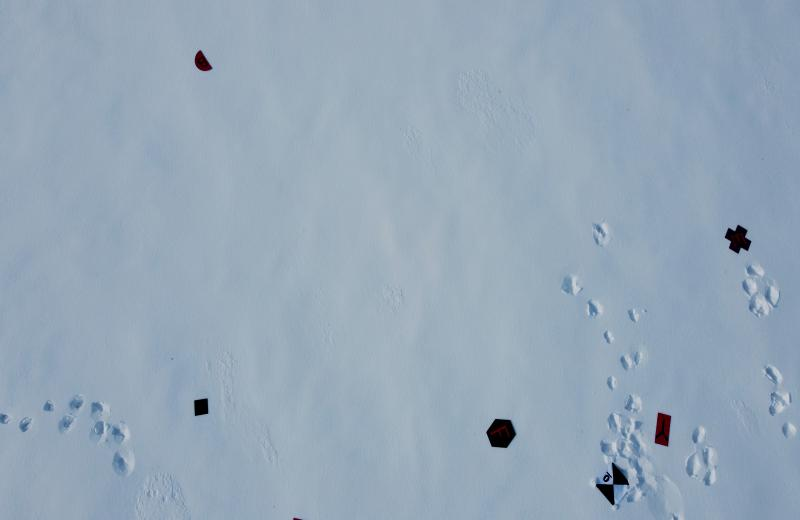Cross: (716, 222, 755, 259)
Hexagon: (484, 416, 518, 454)
Rectangle: (652, 408, 674, 450)
Semi Circle: (192, 48, 215, 74)
Square: (189, 396, 211, 419)
